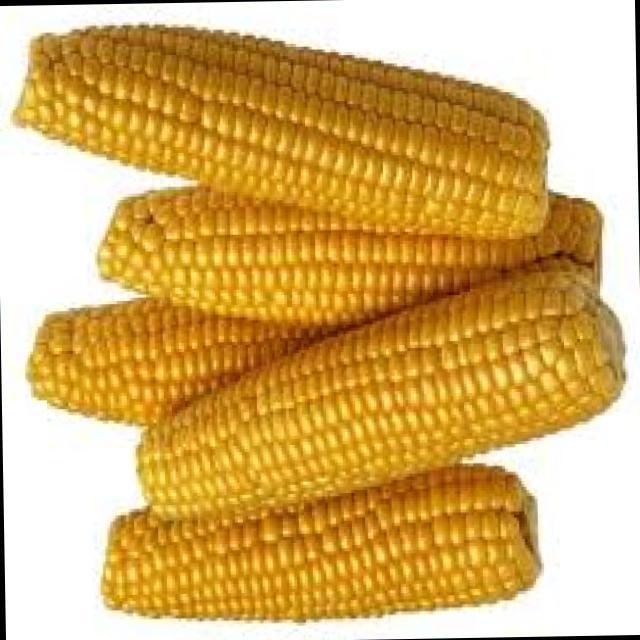Corn: (0, 8, 581, 266), (63, 270, 635, 488), (77, 482, 592, 636)
